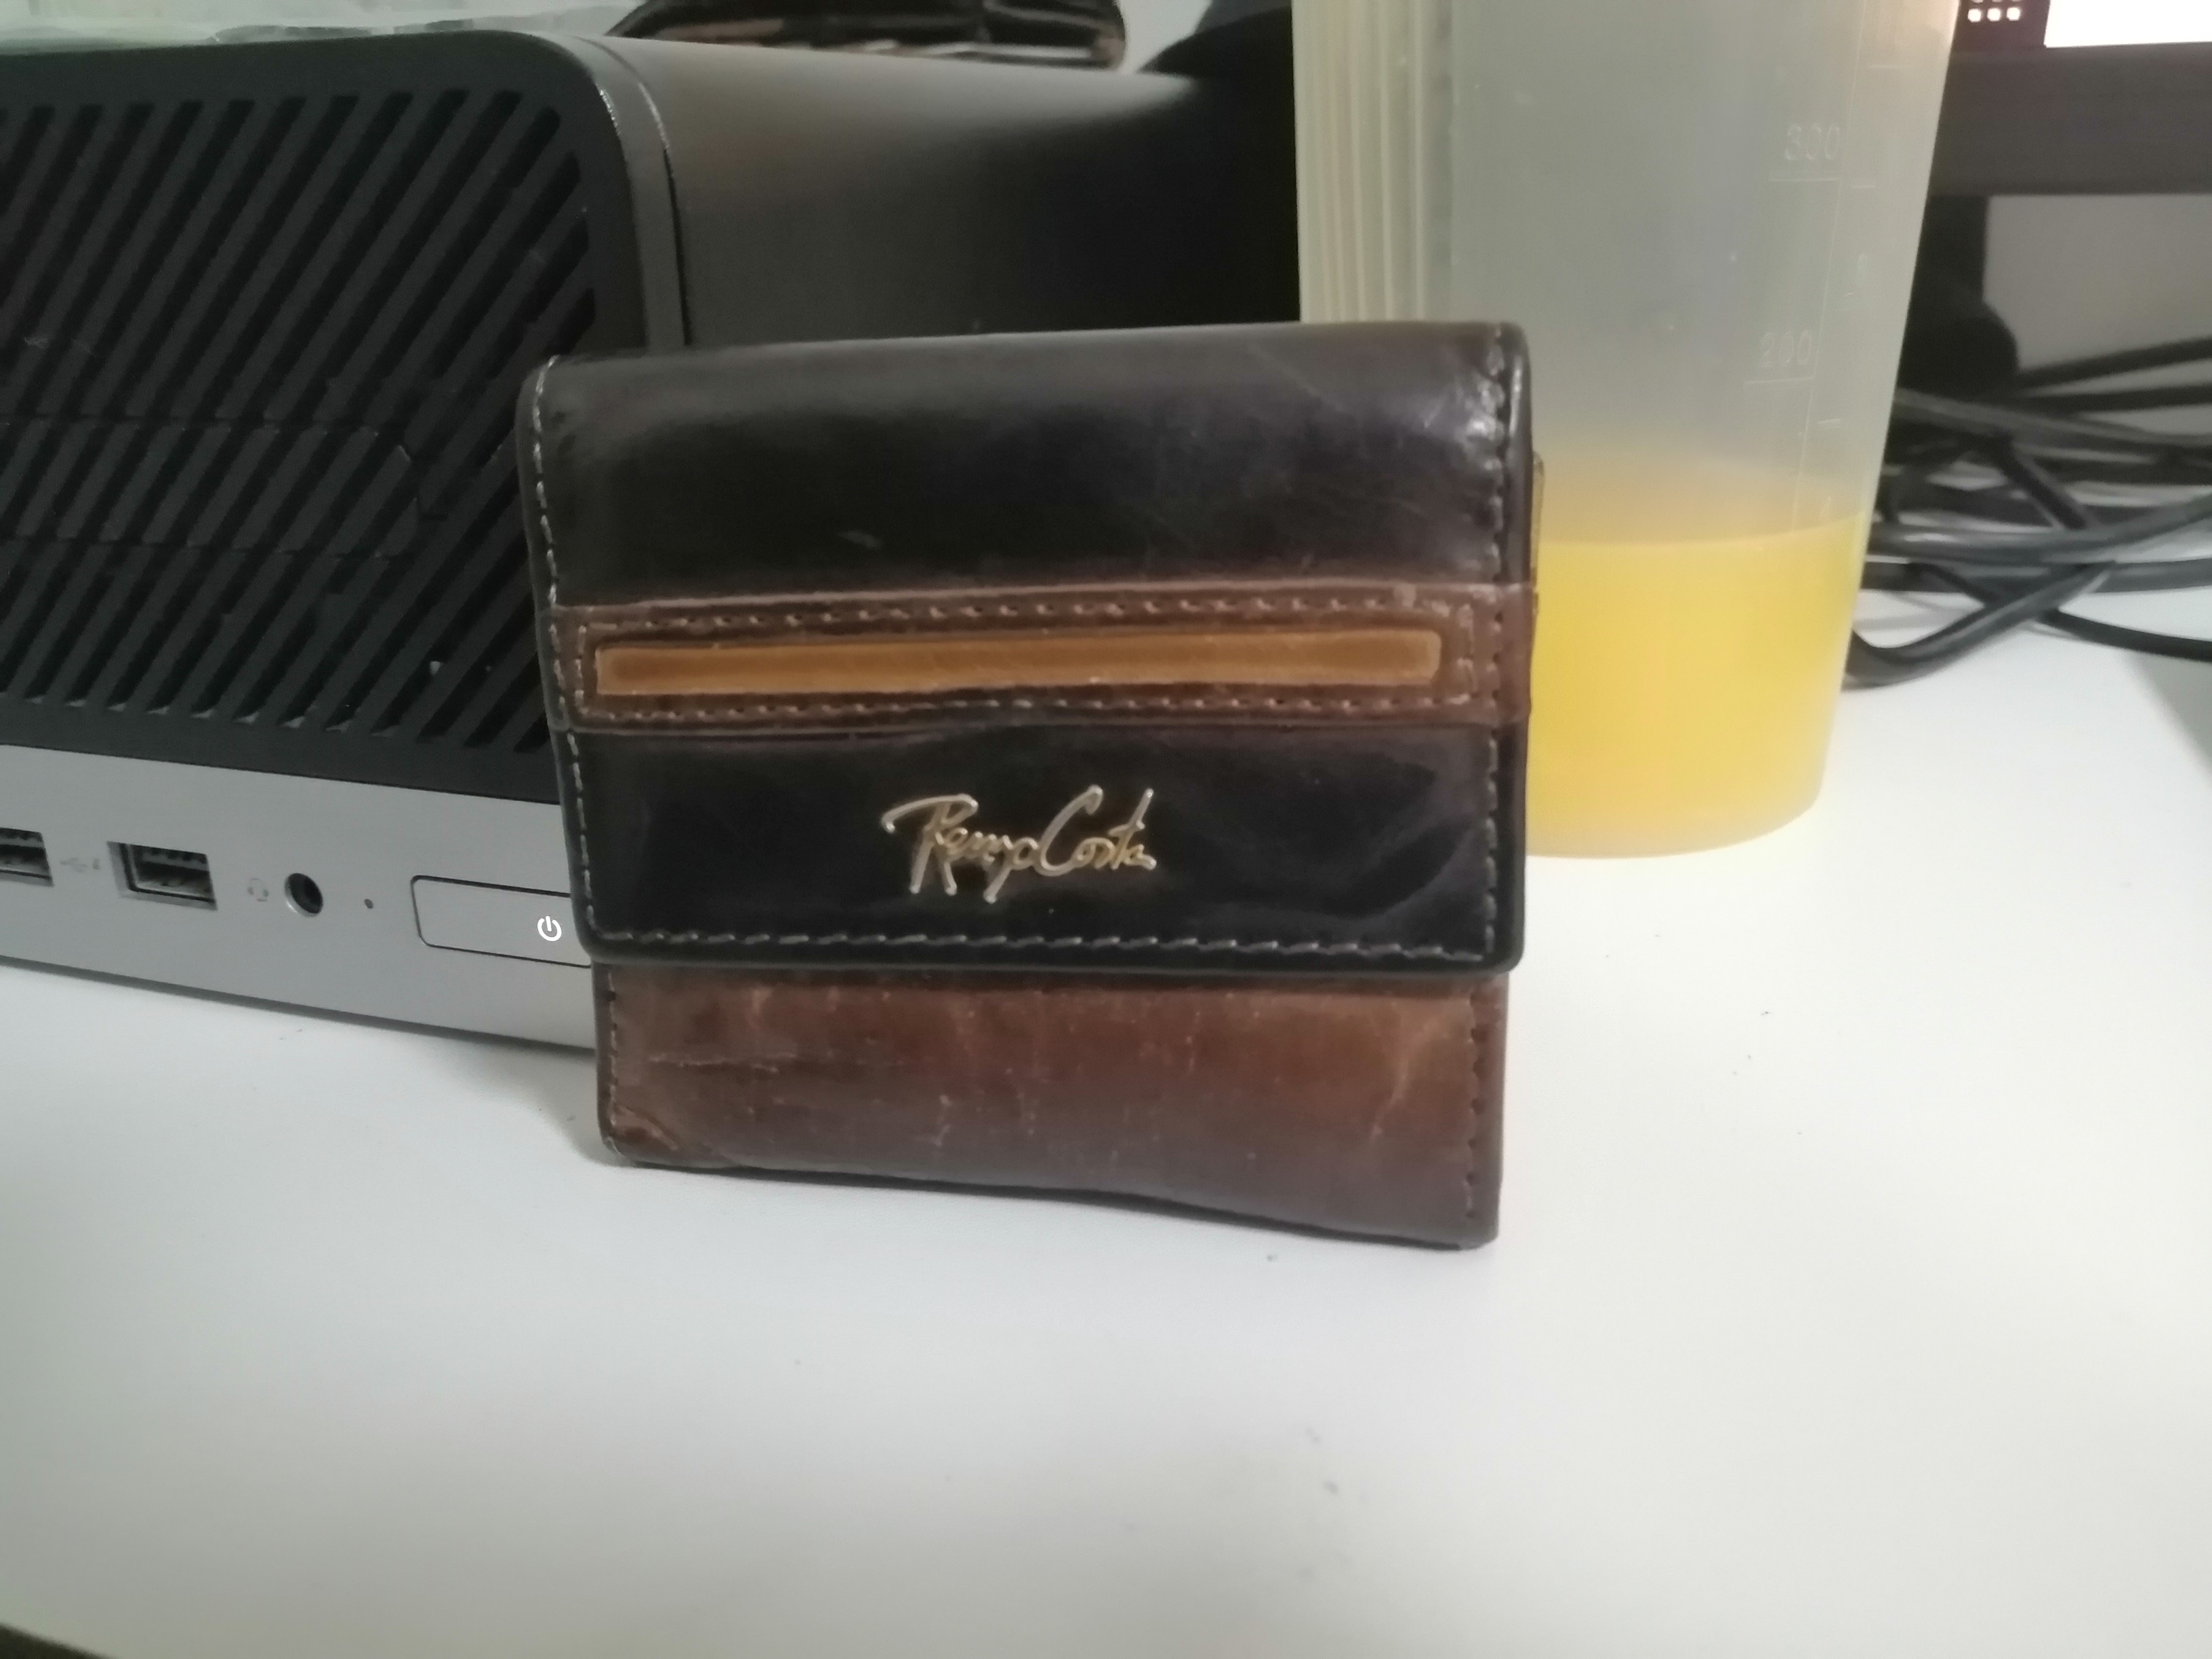monedero: (505, 308, 1564, 1270)
